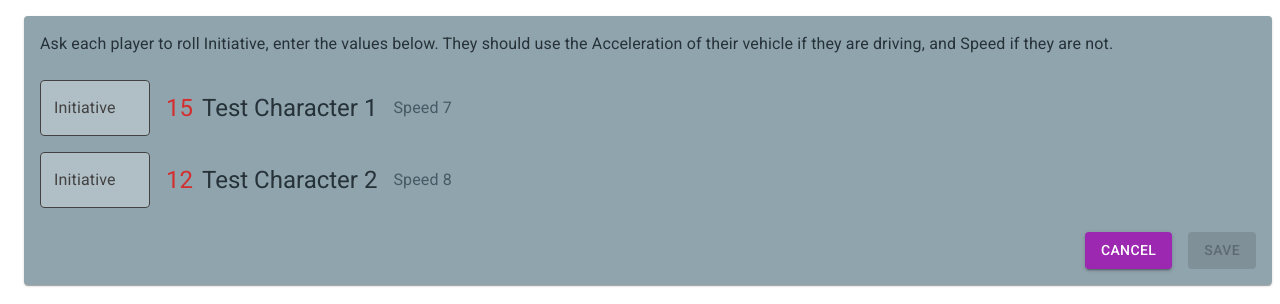
Initiative › form interactions › disables inputs when saving
Type "15" into the number field labelled "Initiative" in the row of "15" at (95, 108), box x1=40 y1=80 x2=150 y2=136
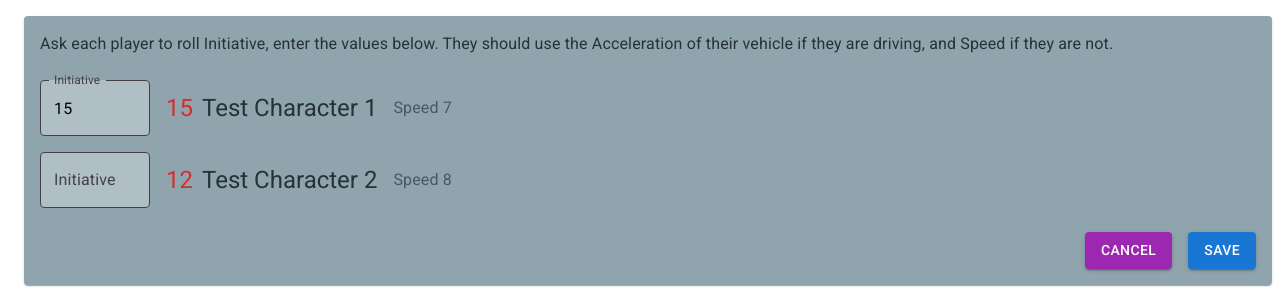
Submit the form
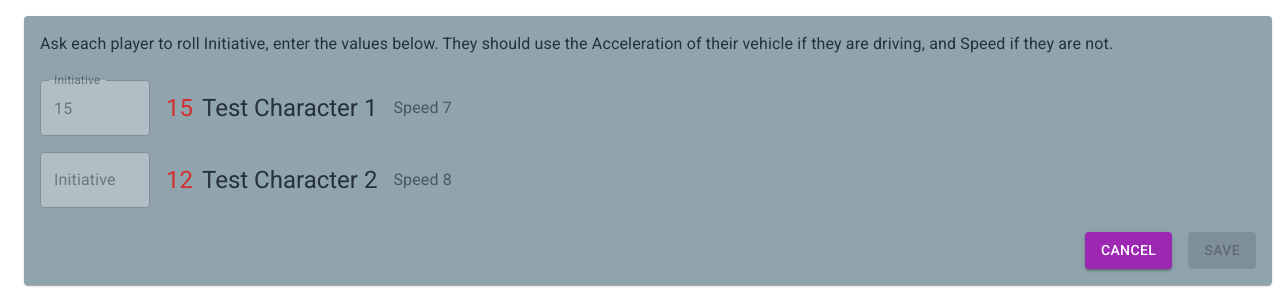
Expected: the number field labelled "Initiative" in the row of "15" is disabled, x1=40 y1=80 x2=150 y2=136
